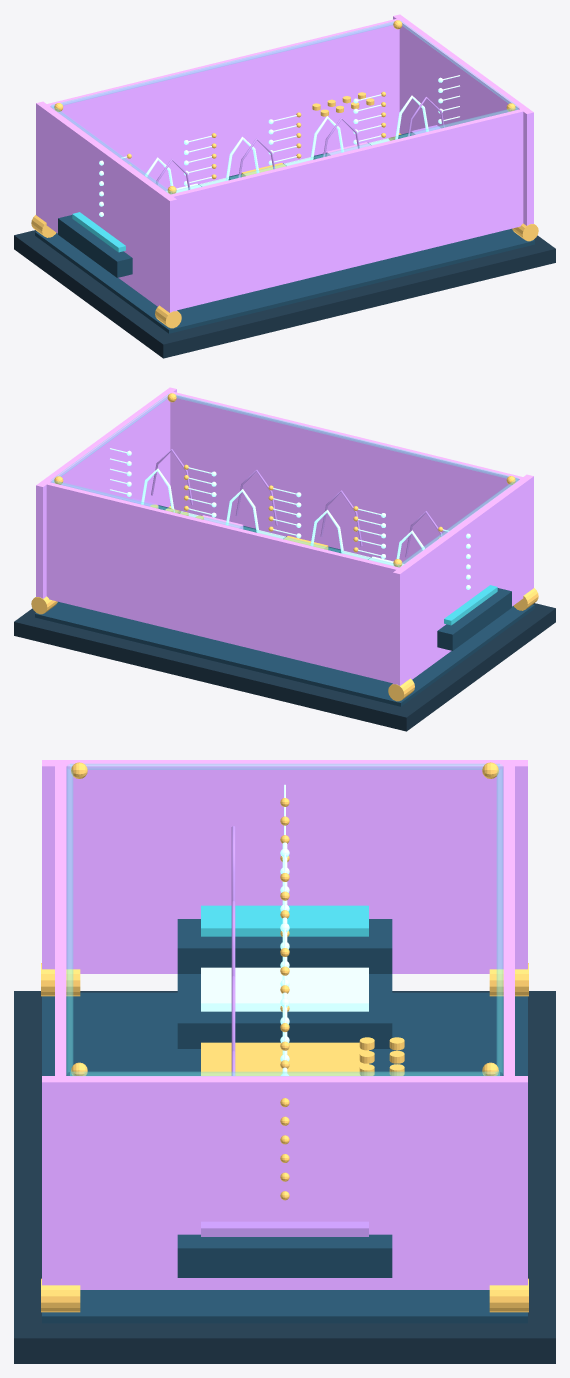
File: history-learning-v001.glb
3 renders of one model, top to bottom at view 1: azimuth 30°, elevation 25°; view 2: azimuth 150°, elevation 25°; view 3: azimuth 270°, elevation 25°, orthographic. The views are drawn at different scales.
Visible parts, largest first — view 1: GEO-shell-crossbar.007, GEO-shell-crossbar.006, GEO-shell-rail.006, GEO-shell-base.003, GEO-shell-deck.003, GEO-shell-rail.007, GEO-sample-frame, GEO-shell-glass-edge.012, GEO-shell-glass-edge.013, GEO-sample-plate, GEO-shell-glass-edge.015, GEO-shell-glass-edge.014; view 2: GEO-shell-crossbar.006, GEO-shell-crossbar.007, GEO-shell-rail.006, GEO-shell-base.003, GEO-shell-deck.003, GEO-shell-rail.007, GEO-sample-frame, GEO-shell-glass-edge.013, GEO-shell-glass-edge.012, GEO-sample-plate, GEO-shell-glass-edge.015, GEO-shell-glass-edge.014; view 3: GEO-shell-rail.007, GEO-shell-rail.006, GEO-shell-base.003, GEO-shell-deck.003, GEO-update-frame, GEO-forward-frame, GEO-sample-frame, GEO-forward-plate, GEO-loss-plate, GEO-sample-plate, GEO-shell-crossbar.006, GEO-shell-crossbar.007 (+10 smaller).
Part boxes in pixels (left/top/right/bottom): GEO-shell-crossbar.007: left=165, top=108, right=528, bottom=310; GEO-shell-crossbar.006: left=41, top=17, right=404, bottom=190; GEO-shell-rail.006: left=36, top=101, right=176, bottom=312; GEO-shell-base.003: left=14, top=230, right=555, bottom=358; GEO-shell-deck.003: left=35, top=228, right=534, bottom=333; GEO-shell-rail.007: left=393, top=14, right=533, bottom=225; GEO-sample-frame: left=58, top=215, right=132, bottom=277; GEO-shell-glass-edge.012: left=51, top=21, right=393, bottom=107; GEO-shell-glass-edge.013: left=170, top=107, right=518, bottom=193; GEO-sample-plate: left=72, top=212, right=125, bottom=252; GEO-shell-glass-edge.015: left=401, top=21, right=518, bottom=108; GEO-shell-glass-edge.014: left=51, top=105, right=170, bottom=193; GEO-shell-crossbar.006: left=41, top=481, right=404, bottom=683; GEO-shell-crossbar.007: left=165, top=390, right=528, bottom=563; GEO-shell-rail.006: left=393, top=474, right=533, bottom=685; GEO-shell-base.003: left=14, top=603, right=555, bottom=731; GEO-shell-deck.003: left=35, top=601, right=534, bottom=706; GEO-shell-rail.007: left=36, top=387, right=176, bottom=598; GEO-sample-frame: left=437, top=588, right=511, bottom=650; GEO-shell-glass-edge.013: left=176, top=394, right=518, bottom=480; GEO-shell-glass-edge.012: left=51, top=480, right=399, bottom=566; GEO-sample-plate: left=444, top=585, right=497, bottom=625; GEO-shell-glass-edge.015: left=51, top=394, right=168, bottom=481; GEO-shell-glass-edge.014: left=399, top=478, right=518, bottom=566; GEO-shell-rail.007: left=42, top=1076, right=527, bottom=1289; GEO-shell-rail.006: left=42, top=760, right=527, bottom=973; GEO-shell-base.003: left=14, top=991, right=555, bottom=1363; GEO-shell-deck.003: left=42, top=992, right=527, bottom=1323; GEO-update-frame: left=177, top=1234, right=392, bottom=1277; GEO-forward-frame: left=177, top=974, right=392, bottom=1048; GEO-sample-frame: left=177, top=919, right=392, bottom=973; GEO-forward-plate: left=201, top=967, right=368, bottom=1011; GEO-loss-plate: left=201, top=1042, right=368, bottom=1075; GEO-sample-plate: left=201, top=905, right=368, bottom=936; GEO-shell-crossbar.006: left=503, top=761, right=514, bottom=1081; GEO-shell-crossbar.007: left=55, top=761, right=66, bottom=1081.
Size of the model in its own units: 8.85 by 3.27 by 5.8.
